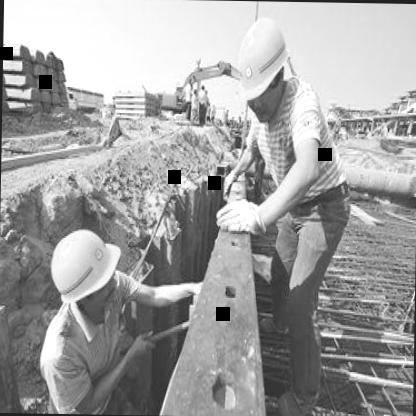helmet: (228, 2, 298, 131), (48, 226, 119, 317)
